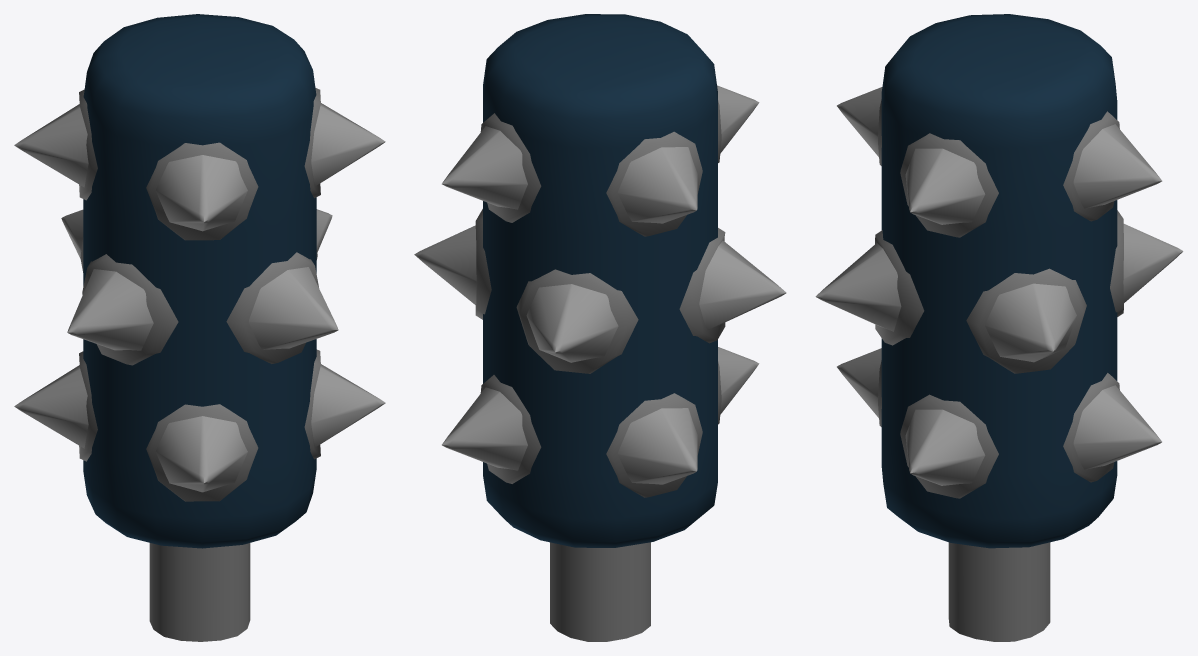
Rendered from VerticalSlicer.fbx.
The picture shows the model from 3 angles, left to right: view 1: azimuth 30°, elevation 25°; view 2: azimuth 150°, elevation 25°; view 3: azimuth 270°, elevation 25°; orthographic projection.
Parts seen in each view (by area): view 1: Hazard_Cylinder.001; view 2: Hazard_Cylinder.001; view 3: Hazard_Cylinder.001.
Boxes of the visible parts, box(x1,y1,x2,y2) form: Hazard_Cylinder.001: box(14, 14, 385, 641); Hazard_Cylinder.001: box(414, 14, 786, 641); Hazard_Cylinder.001: box(815, 14, 1183, 641).
Bounding box in the file's own units: 182 × 312 × 182.
